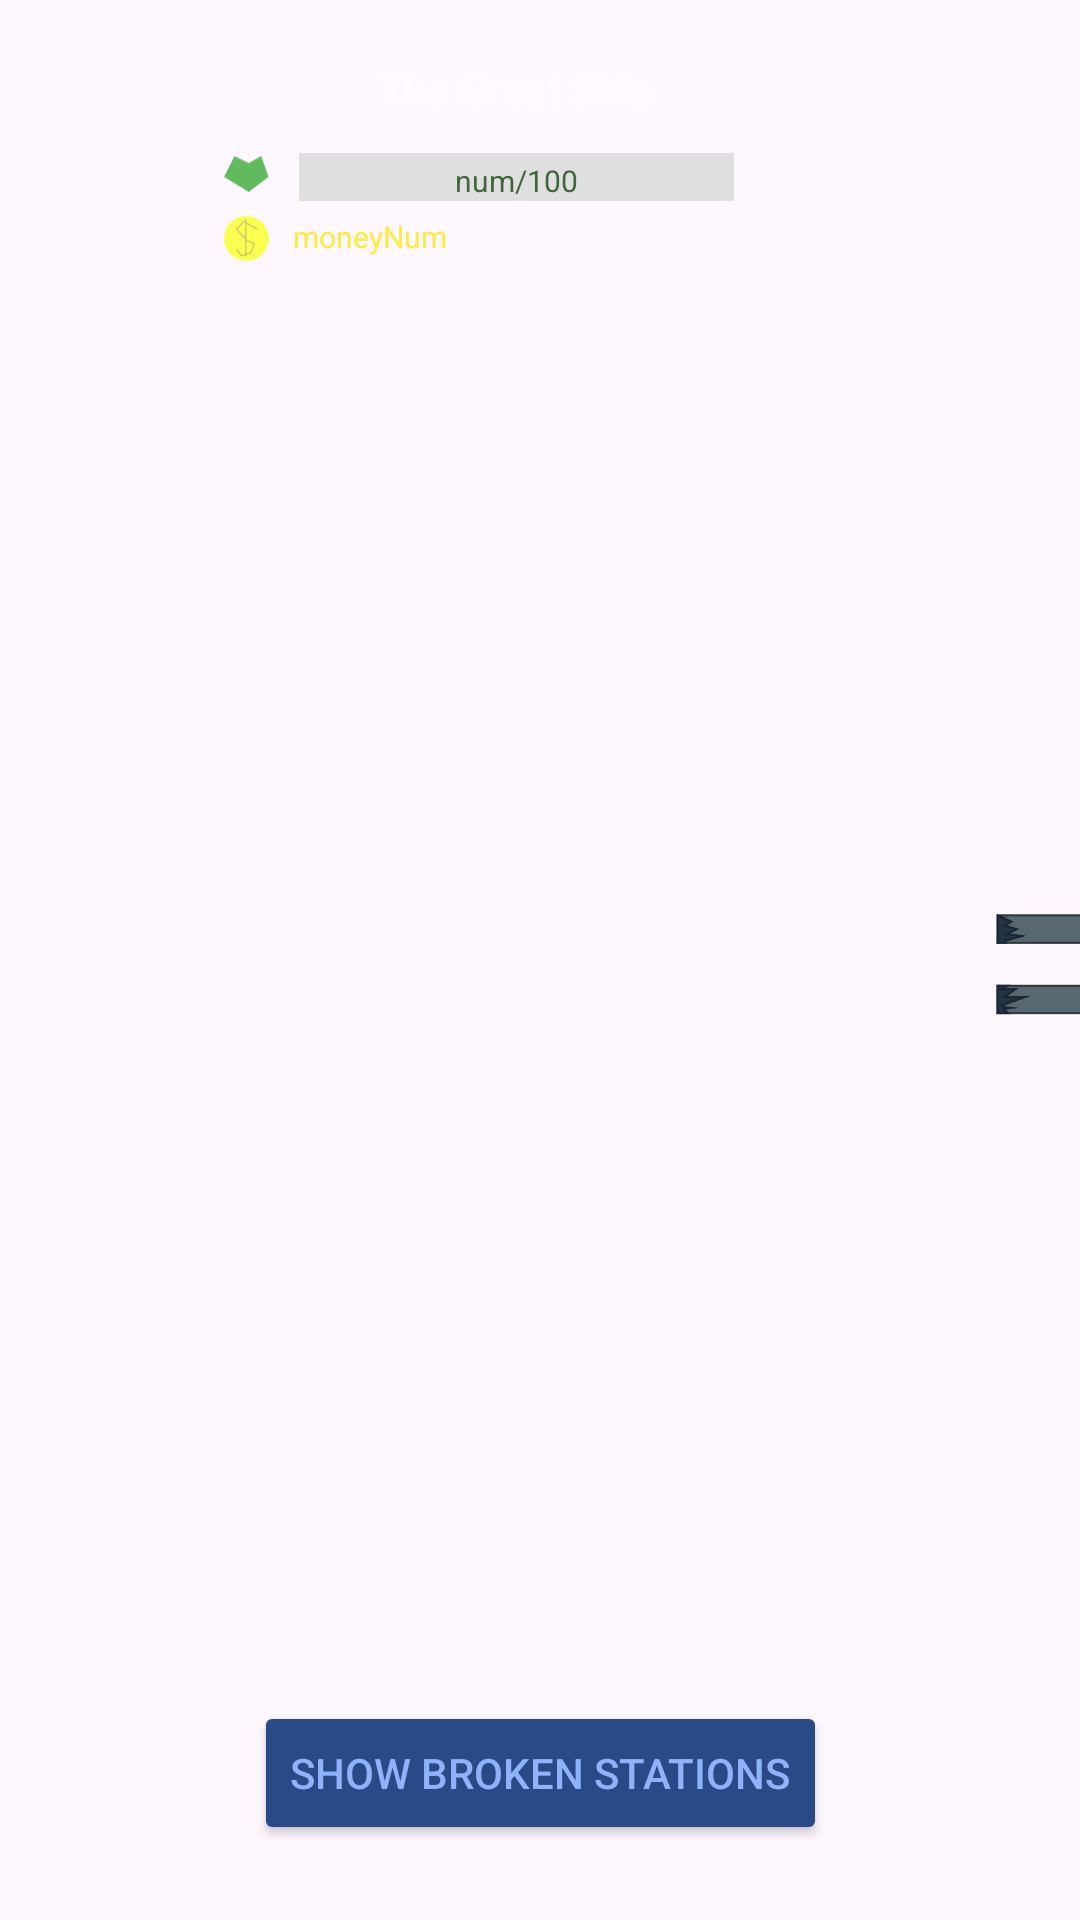

Icon click points for this 1080px×1920px phone screenshot, format point (x, y):
hullstrength: point (246, 174)
